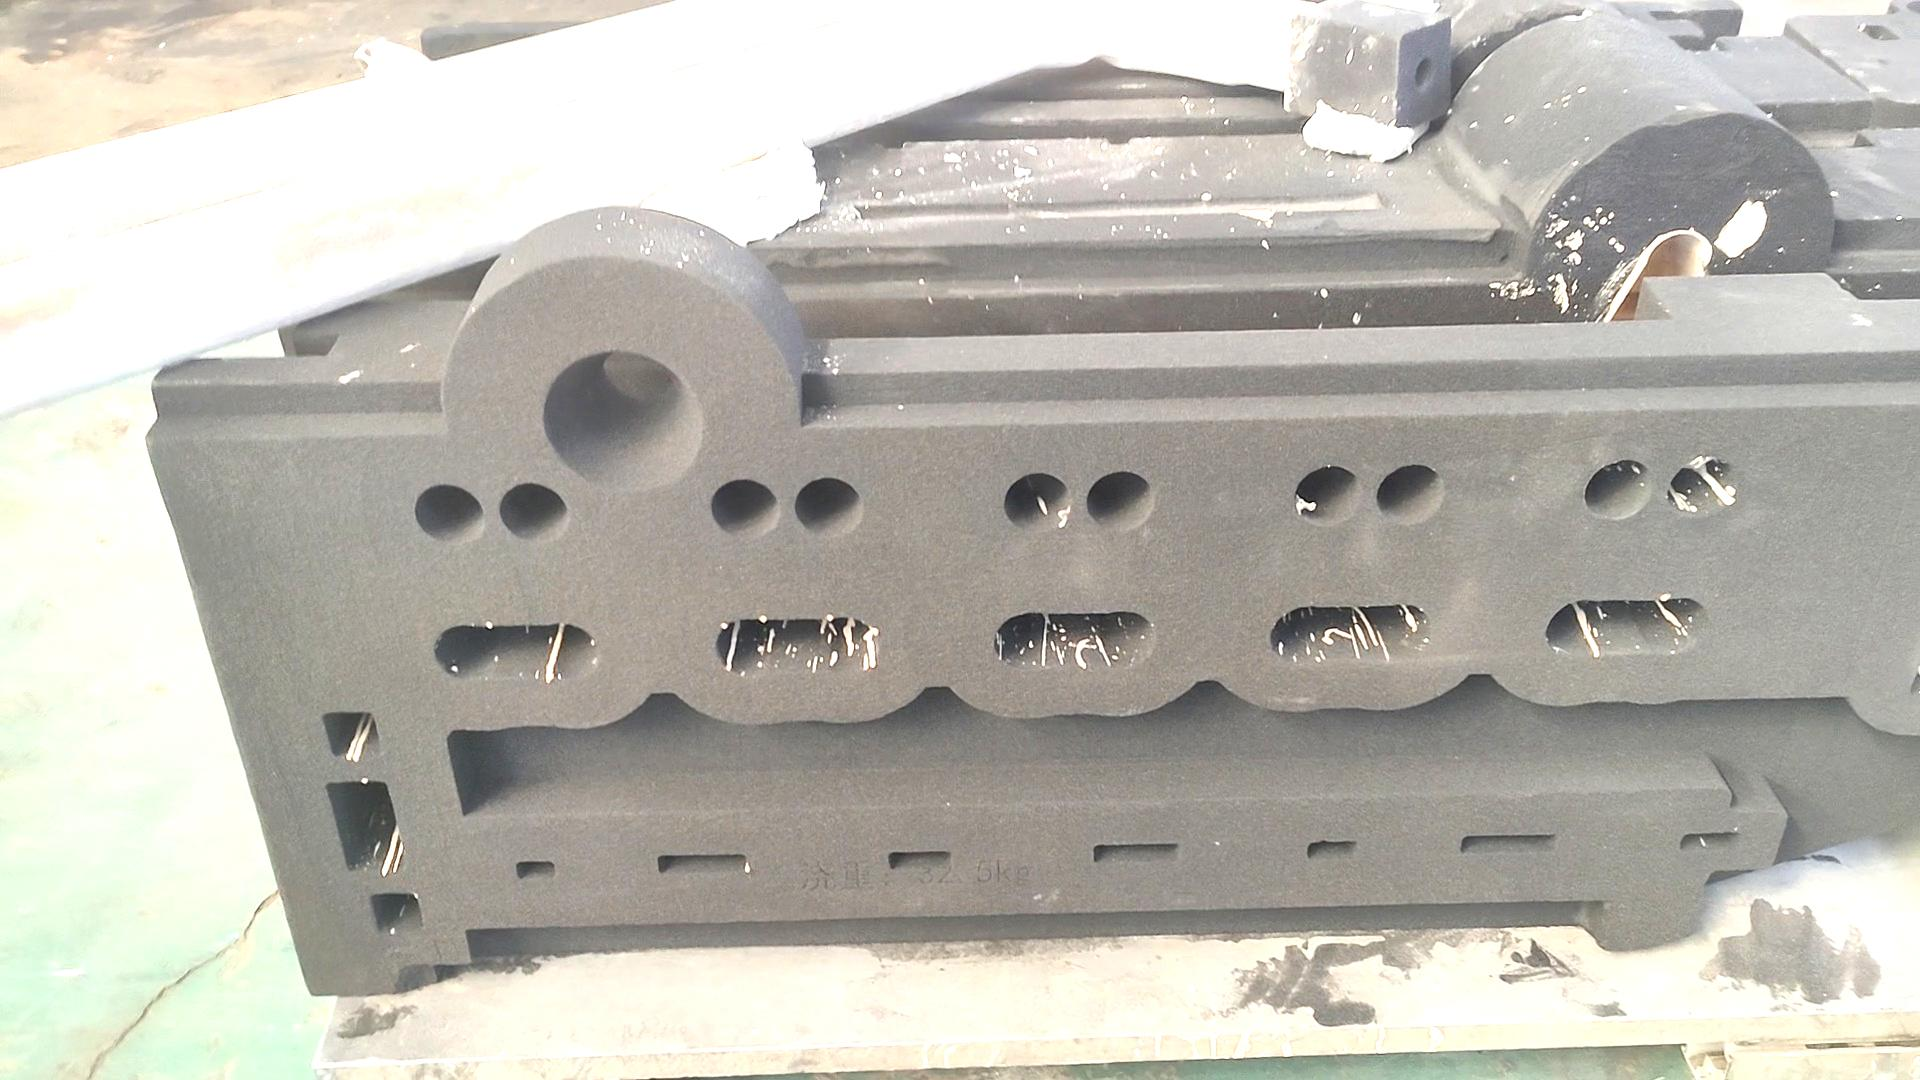pouring hole: (541, 349, 703, 491)
